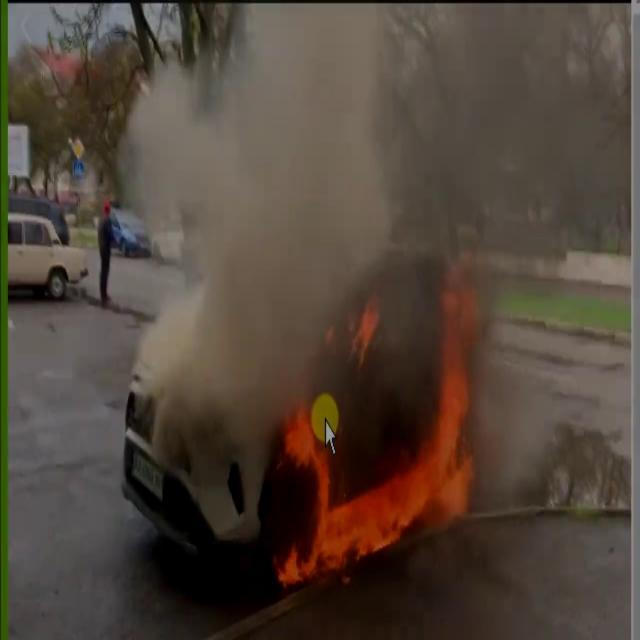Fire: (281, 320, 481, 590)
Smoke: (111, 2, 626, 482)
